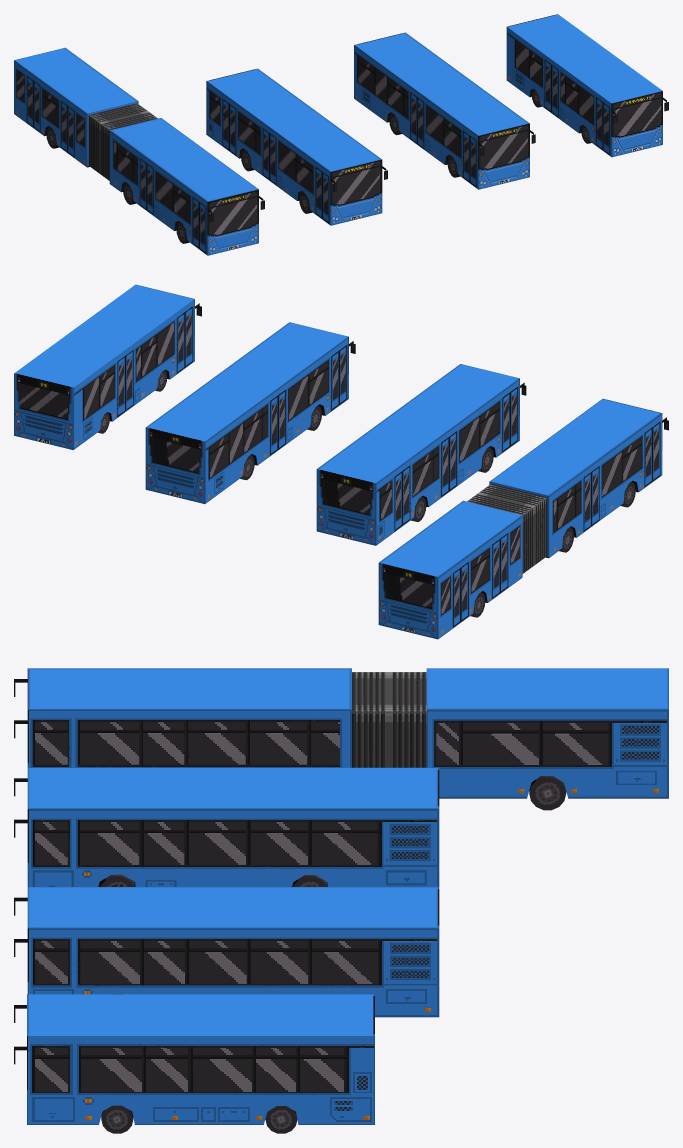
Rendered from pixel_city_buses.glb.
3 views of the same model, one above another, from view 1: azimuth 30°, elevation 25°; view 2: azimuth 150°, elevation 25°; view 3: azimuth 270°, elevation 25° (orthographic). The views are drawn at different scales.
Visible parts, largest first — view 1: Object_4, Object_3, Object_5, Object_2, Object_6, Object_8; view 2: Object_4, Object_5, Object_3, Object_2, Object_6, Object_8; view 3: Object_4, Object_3, Object_5, Object_2, Object_7, Object_8.
Part boxes in pixels (x1,y1,x2,y2): Object_4: [14, 47, 264, 255]; Object_3: [206, 68, 387, 225]; Object_5: [354, 32, 535, 189]; Object_2: [506, 14, 668, 157]; Object_6: [123, 89, 591, 243]; Object_8: [46, 113, 401, 171]; Object_4: [378, 398, 668, 639]; Object_5: [145, 322, 355, 503]; Object_3: [316, 364, 526, 545]; Object_2: [14, 284, 201, 450]; Object_6: [98, 370, 635, 552]; Object_8: [240, 455, 485, 617]; Object_4: [14, 668, 668, 798]; Object_3: [14, 767, 439, 886]; Object_5: [14, 887, 439, 1017]; Object_2: [14, 994, 374, 1124]; Object_7: [101, 1105, 297, 1133]; Object_8: [292, 776, 566, 886].
Bounding box in the file's own units: 17.89 × 2.27 × 13.34.
Materials: 7 (7 with a texture image).
